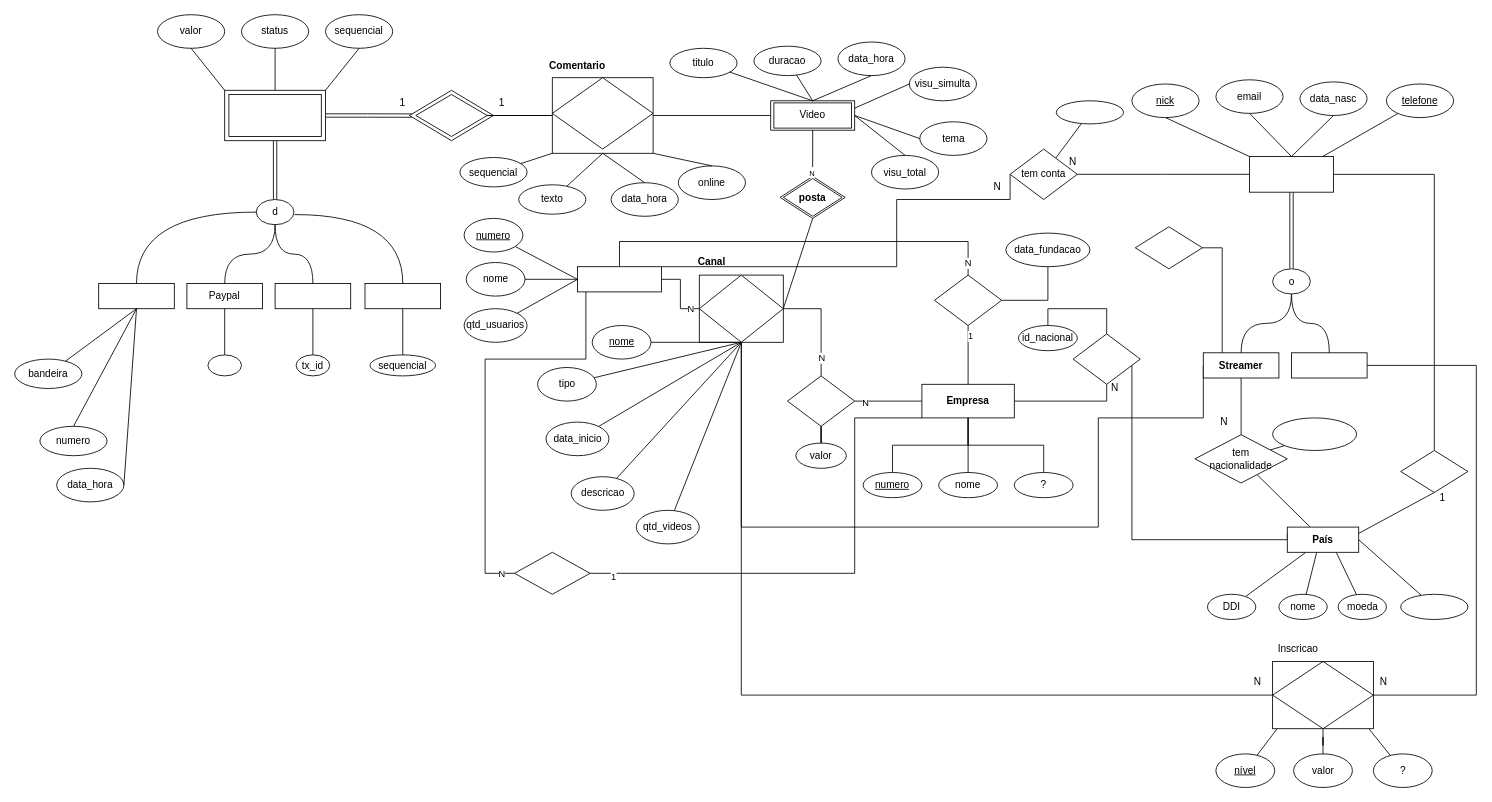
Image size: 1492x802. Some labels were removed from this diagram. Each missing label, with the centre of its shape:
"BTC" goes at (x=312, y=296).
"Cartao_Cred" goes at (x=136, y=296).
"doa" goes at (x=451, y=115).
"Doacao" goes at (x=274, y=115).
"funda" goes at (x=968, y=300).
"id" goes at (x=224, y=365).
"Mec_plat" goes at (x=402, y=296).
"Membro" goes at (x=1329, y=365).
"nro_passaporte" goes at (x=1314, y=433).
"nro_usuario" goes at (x=1089, y=112).
"participa" goes at (x=1168, y=247).
"patrocina" goes at (x=821, y=400).
"Plataforma" goes at (x=619, y=279).
"plataforma streamer" goes at (x=740, y=308).
"reside" goes at (x=1434, y=471).
"responsavel" goes at (x=552, y=572).
"se inscreve" goes at (x=1322, y=695).
"tem sede" goes at (x=1106, y=358).
"tx_conversão" goes at (x=1434, y=606).
"Usuario" goes at (x=1291, y=174).
"visualização" goes at (x=602, y=113).
